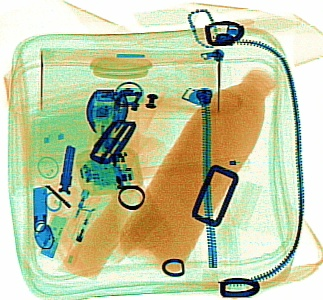lighter: (55, 187, 98, 268)
